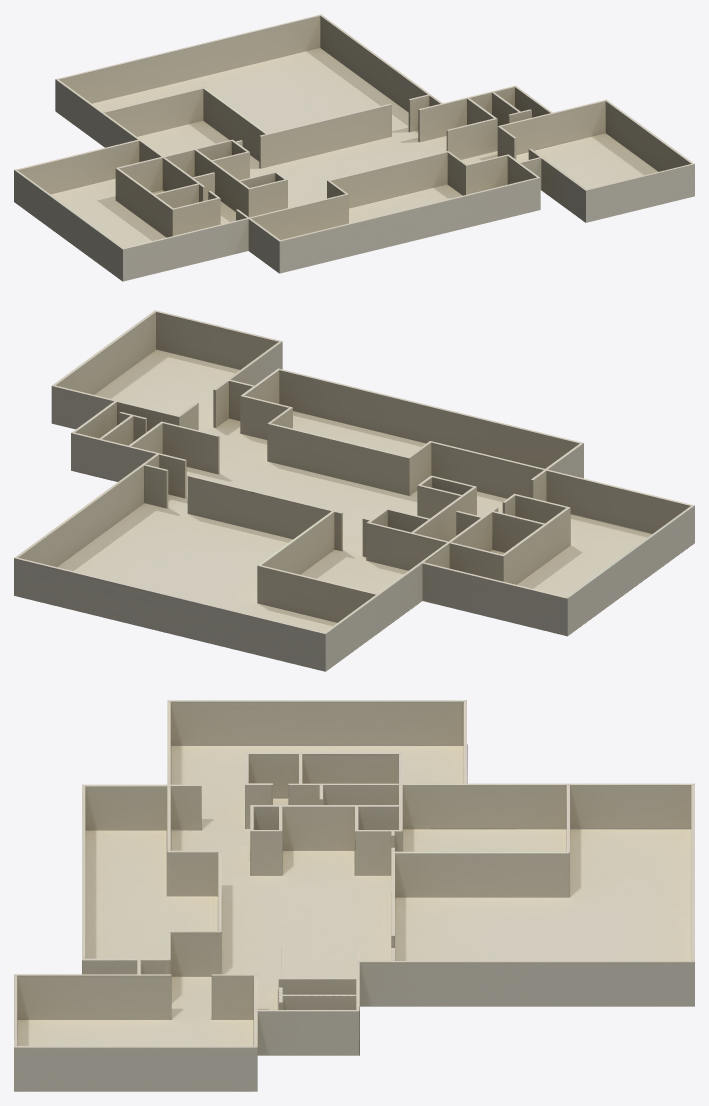
Rendered from b1_floor_bake.glb.
3 views of the same model, one above another, from view 1: azimuth 30°, elevation 25°; view 2: azimuth 150°, elevation 25°; view 3: azimuth 270°, elevation 25° (orthographic). The views are drawn at different scales.
Visible parts, largest first — view 1: bl_wall.002; view 2: bl_wall.002; view 3: bl_wall.002.
Part boxes in pixels (x1=…): bl_wall.002: x1=14, y1=14, x2=694, y2=281; bl_wall.002: x1=14, y1=310, x2=694, y2=671; bl_wall.002: x1=14, y1=700, x2=694, y2=1091.
Bounding box in the file's own units: 13.49 × 0.8 × 11.18.
1 material, 1 textured.
